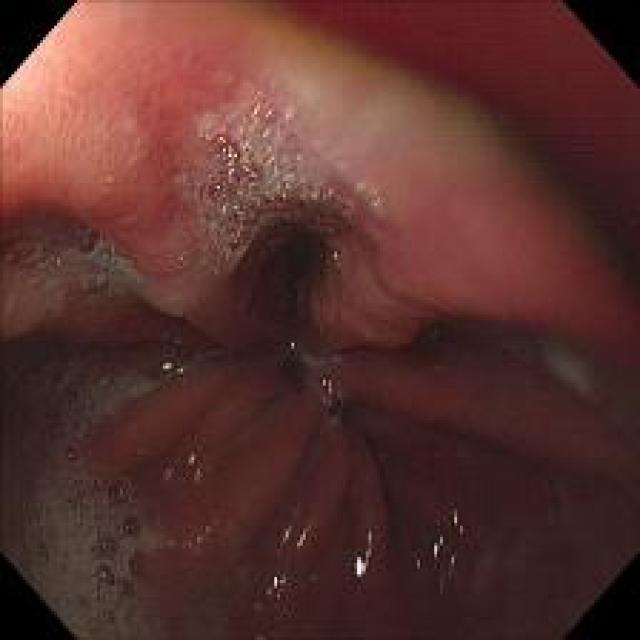bubbles: (32, 395, 140, 630), (204, 148, 345, 266), (12, 215, 122, 294), (215, 106, 299, 164), (56, 384, 86, 472), (104, 474, 142, 538), (95, 539, 116, 584), (114, 576, 136, 606), (125, 549, 148, 575), (175, 248, 198, 270), (324, 392, 342, 419), (120, 214, 136, 224)
color misalignment: (510, 139, 624, 266), (414, 511, 466, 545), (184, 518, 216, 550), (352, 530, 371, 578), (430, 536, 456, 568), (262, 574, 286, 605), (278, 525, 309, 548), (180, 452, 204, 481), (158, 464, 181, 494), (159, 360, 186, 371), (320, 376, 335, 392)
contrast: (15, 241, 619, 624)
specularity: (351, 529, 374, 584), (219, 145, 238, 174), (410, 545, 421, 574), (321, 378, 338, 395), (160, 362, 188, 372), (211, 182, 222, 191), (290, 340, 298, 351)
